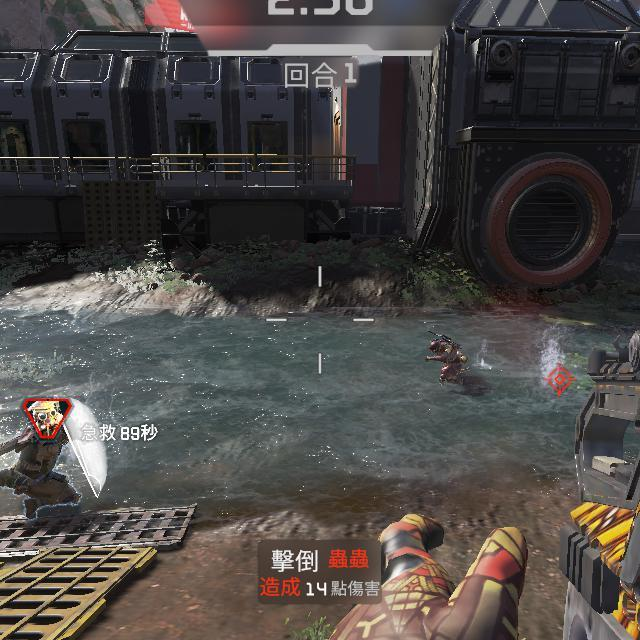avatar: (428, 335, 471, 391)
